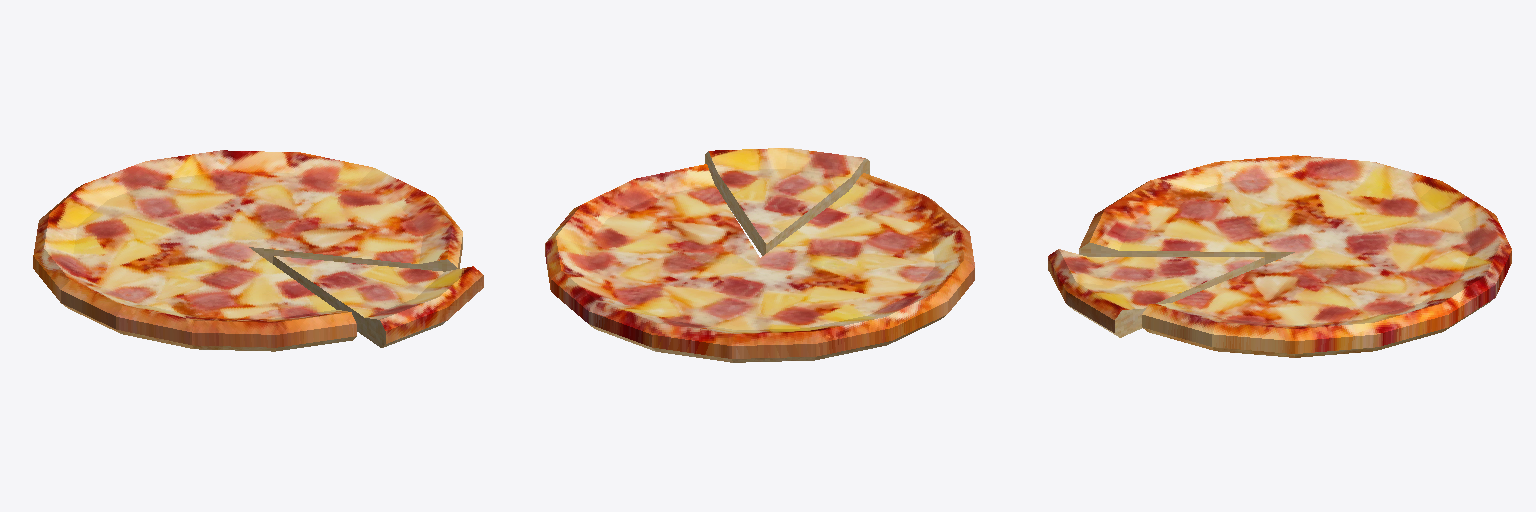
The picture shows the model from 3 angles: view 1: azimuth 30°, elevation 25°; view 2: azimuth 150°, elevation 25°; view 3: azimuth 270°, elevation 25°; orthographic projection.
Visible parts, largest first — view 1: PizzaRebanada, RebanadaPizza; view 2: PizzaRebanada, RebanadaPizza; view 3: PizzaRebanada, RebanadaPizza.
Boxes of the visible parts, box(x1,y1,x2,y2) form: PizzaRebanada: box(33, 150, 462, 351); RebanadaPizza: box(273, 256, 483, 347); PizzaRebanada: box(545, 164, 974, 362); RebanadaPizza: box(705, 148, 869, 255); PizzaRebanada: box(1079, 155, 1511, 357); RebanadaPizza: box(1048, 249, 1264, 337).
Size of the model in its own units: 8.54 by 0.5972 by 9.15.
1 materials, 1 textured.